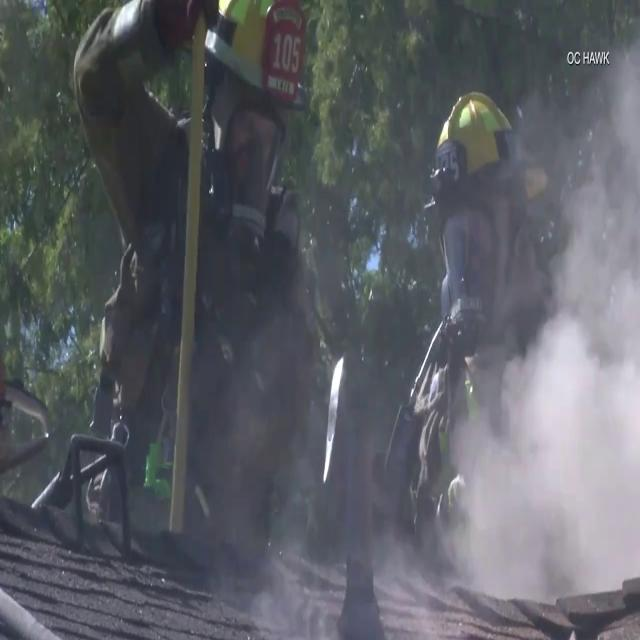Smoke: (453, 190, 636, 626)
